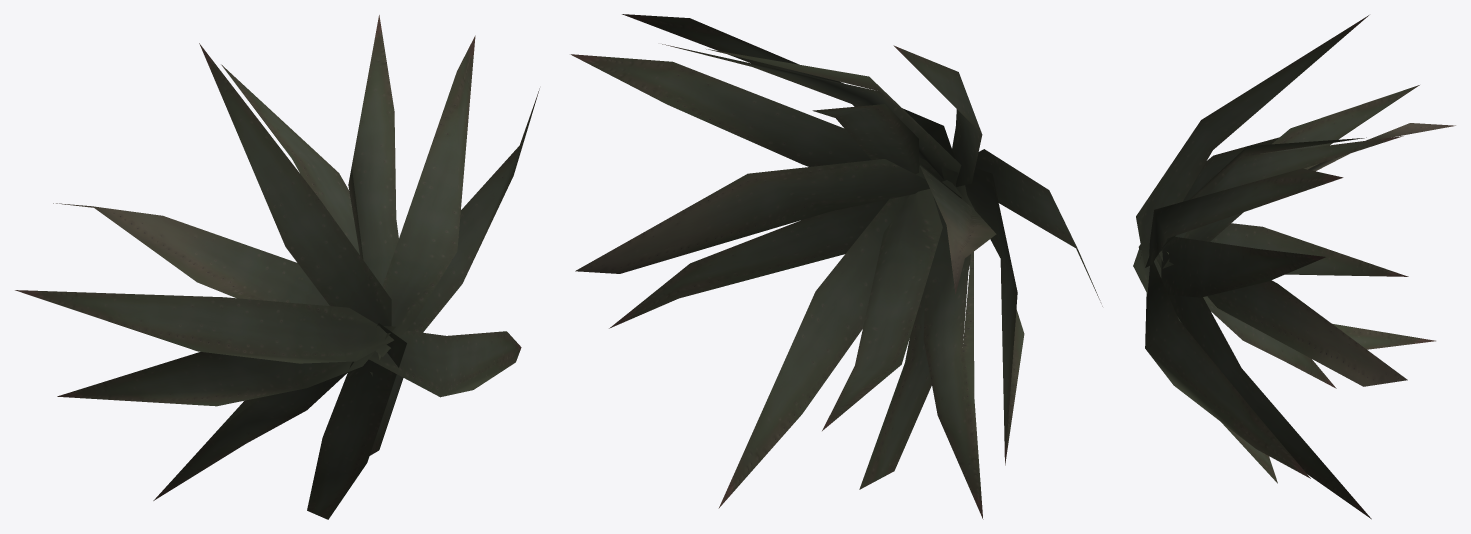
Rendered from DE_Cactus_b_01_LOD_02.fbx.
3 views of the same model, side by side, from view 1: azimuth 30°, elevation 25°; view 2: azimuth 150°, elevation 25°; view 3: azimuth 270°, elevation 25° (orthographic). The views are drawn at different scales.
Visible parts, largest first — view 1: DE_Cactus_b_01_LOD_02; view 2: DE_Cactus_b_01_LOD_02; view 3: DE_Cactus_b_01_LOD_02.
Part boxes in pixels (bbox=[...]): DE_Cactus_b_01_LOD_02: bbox=[15, 15, 539, 519]; DE_Cactus_b_01_LOD_02: bbox=[570, 14, 1102, 519]; DE_Cactus_b_01_LOD_02: bbox=[1133, 15, 1455, 519].
Size of the model in its own units: 2.75 by 2.38 by 1.61.
